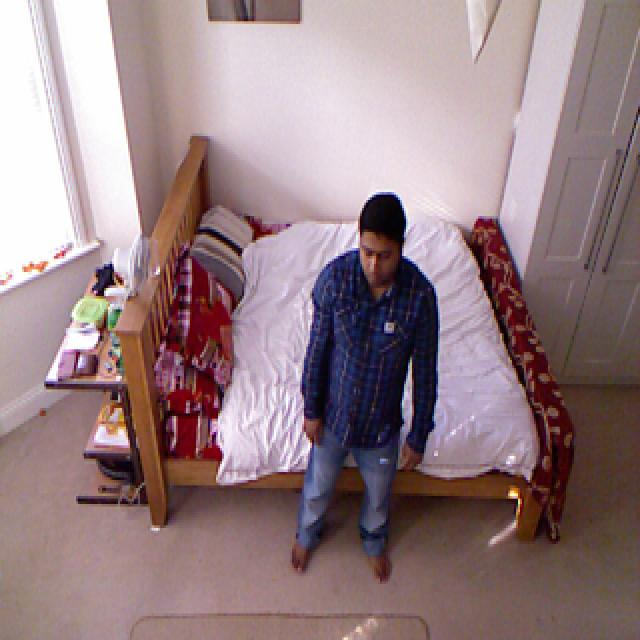standing: (300, 191, 441, 578)
